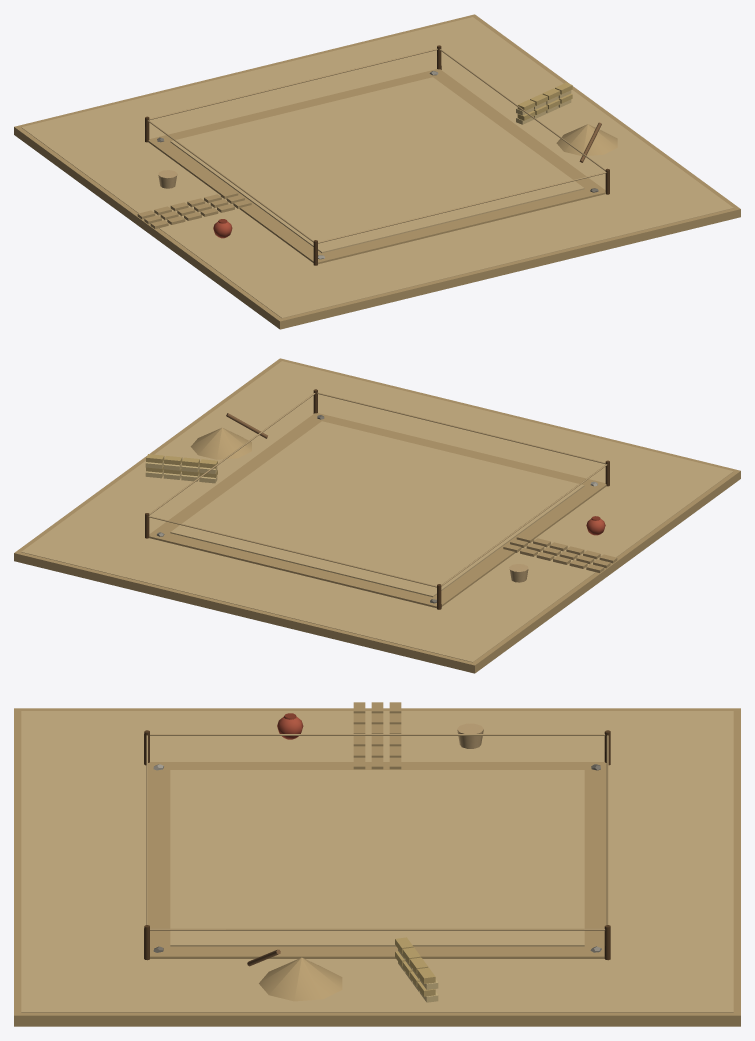
File: rad-3-site.glb
3 renders of one model, top to bottom at view 1: azimuth 30°, elevation 25°; view 2: azimuth 150°, elevation 25°; view 3: azimuth 270°, elevation 25°, orthographic. The views are drawn at different scales.
Size of the model in its own units: 25.04 by 1.81 by 25.
13 materials, 1 textured.
